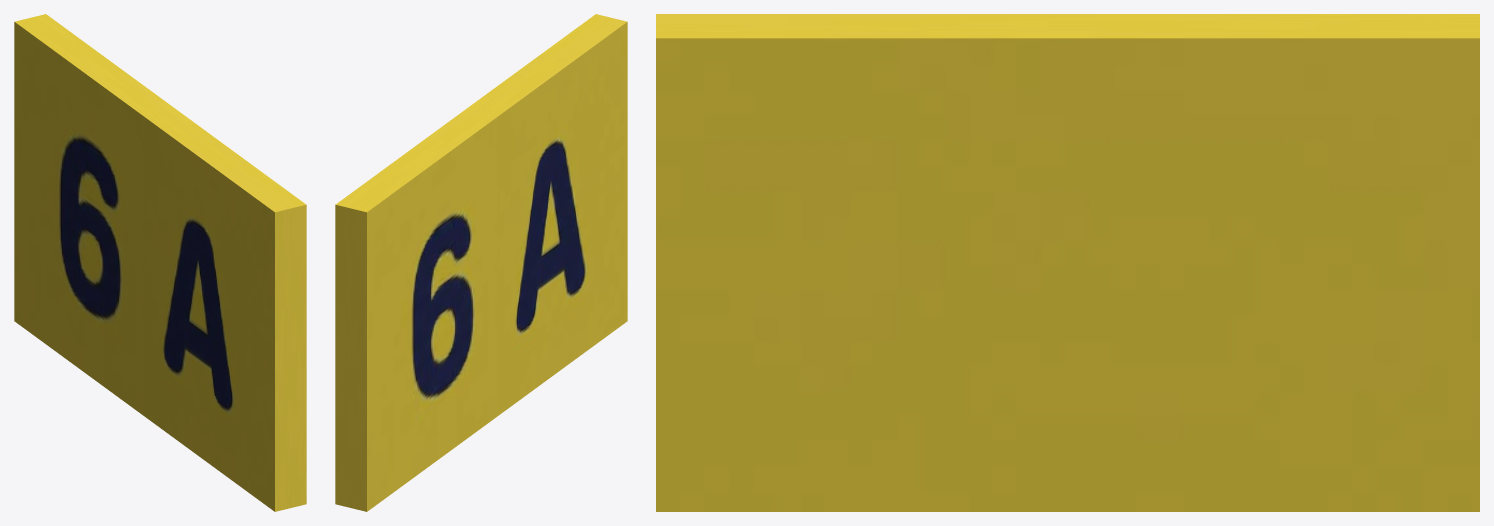
3 views of the same model, side by side, from view 1: azimuth 30°, elevation 25°; view 2: azimuth 150°, elevation 25°; view 3: azimuth 270°, elevation 25° (orthographic). The views are drawn at different scales.
Parts seen in each view (by area): view 1: 6A; view 2: 6A; view 3: 6A.
Boxes of the visible parts, bbox=[...] form: 6A: bbox=[14, 14, 306, 511]; 6A: bbox=[335, 14, 627, 511]; 6A: bbox=[656, 14, 1479, 511].
Size of the model in its own units: 4.74 by 42.99 by 67.76.
